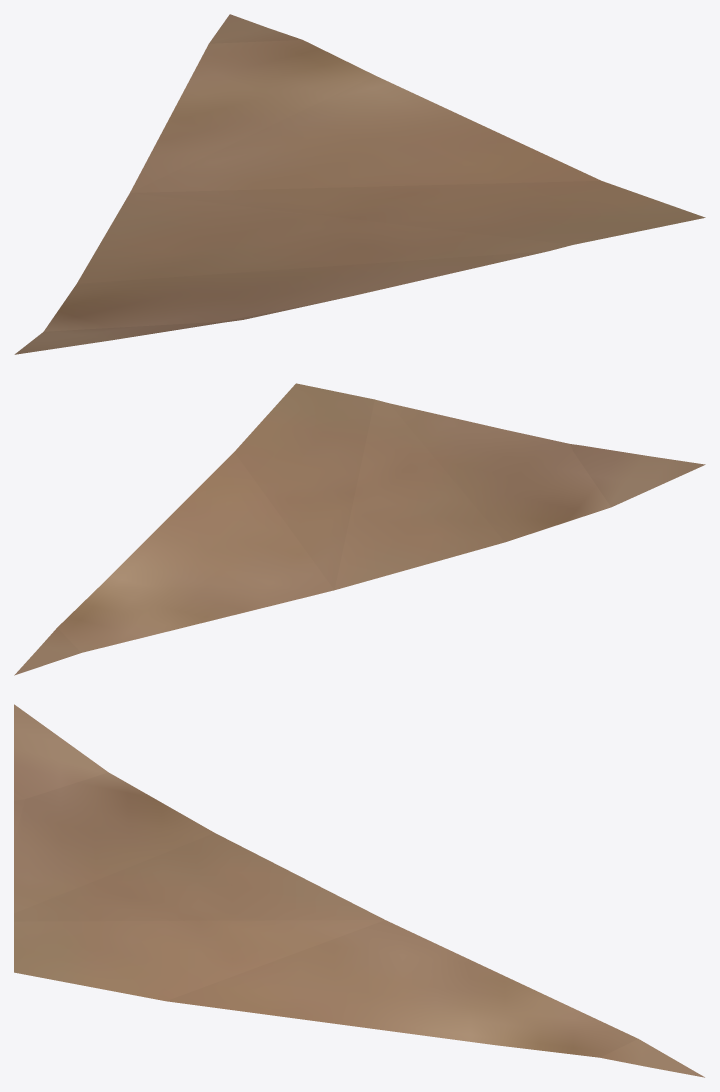
The picture shows the model from 3 angles, top to bottom: view 1: azimuth 30°, elevation 25°; view 2: azimuth 150°, elevation 25°; view 3: azimuth 270°, elevation 25°; orthographic projection. The views are drawn at different scales.
Size of the model in its own units: 0.5401 by 0.1317 by 0.6437.
1 material, 1 textured.
